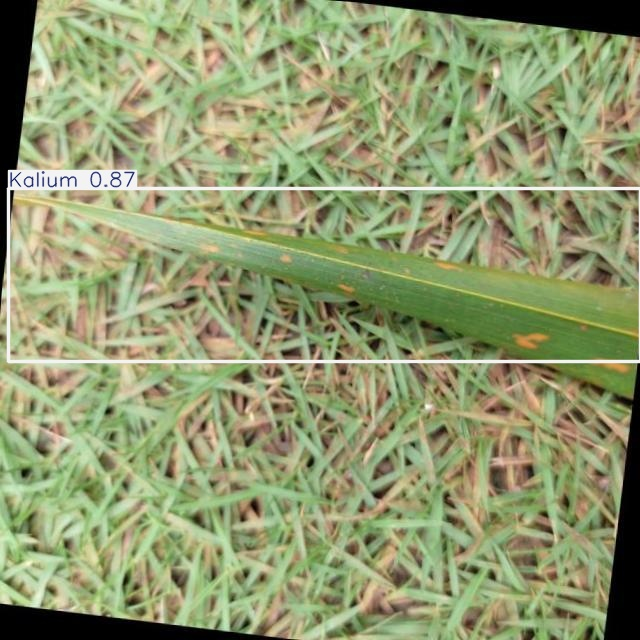Kalium: (8, 188, 640, 362)
